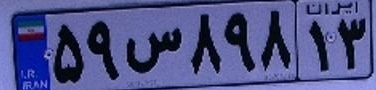character: (121, 24, 187, 77), (257, 5, 294, 76), (221, 10, 258, 79), (49, 21, 87, 88), (187, 11, 223, 81), (86, 17, 121, 86), (335, 15, 367, 73), (302, 17, 332, 77)
